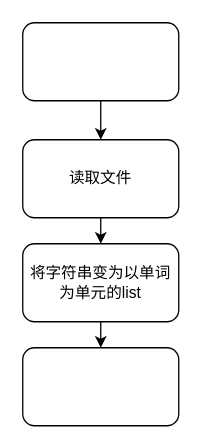
Image size: 202x448. Some labels were removed from this diagram. The shapes that lost their labels are listed below. From the top down, each one's centre as x and y in pixels, then its label:
At point 100,61: "选定要排序的文件".
At point 100,386: "将单词插入哈希表，统计出现次数".
